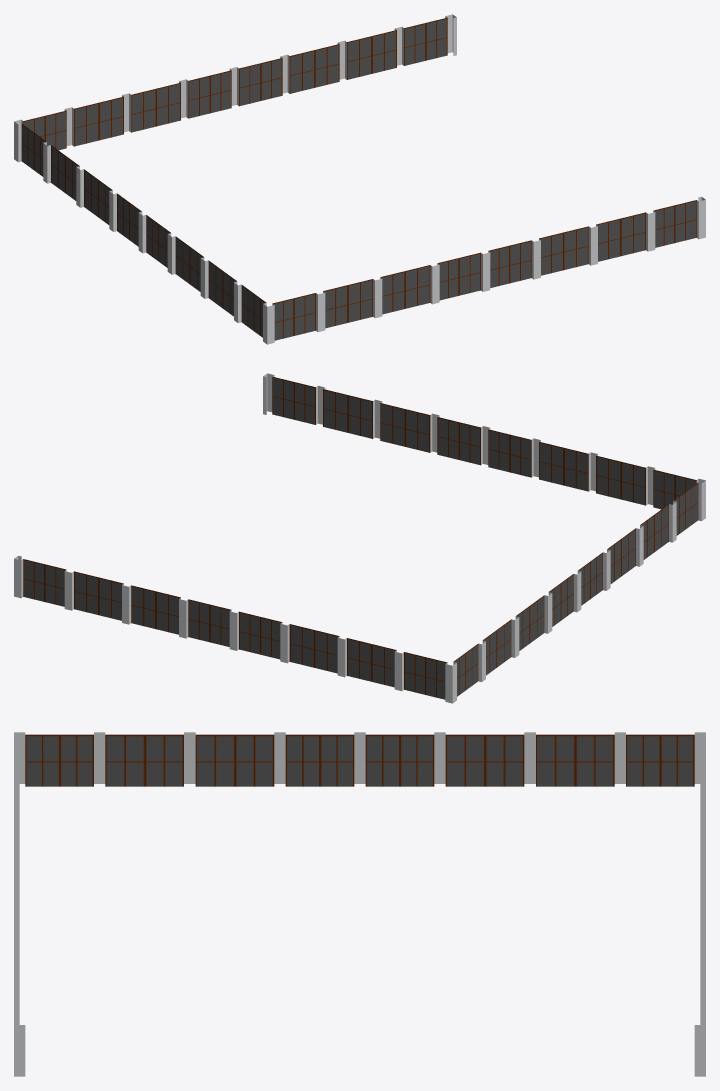
File: BuildingBig5_2.fbx
3 renders of one model, top to bottom at view 1: azimuth 30°, elevation 25°; view 2: azimuth 150°, elevation 25°; view 3: azimuth 270°, elevation 25°, orthographic. The views are drawn at different scales.
Parts seen in each view (by area): view 1: BuildingBig5_2; view 2: BuildingBig5_2; view 3: BuildingBig5_2.
Part boxes in pixels (box(x1,y1,x2,y2)): BuildingBig5_2: box(14, 14, 705, 344); BuildingBig5_2: box(14, 373, 705, 703); BuildingBig5_2: box(14, 732, 705, 1076).
Bounding box in the file's own units: 6060 × 500 × 6060.
